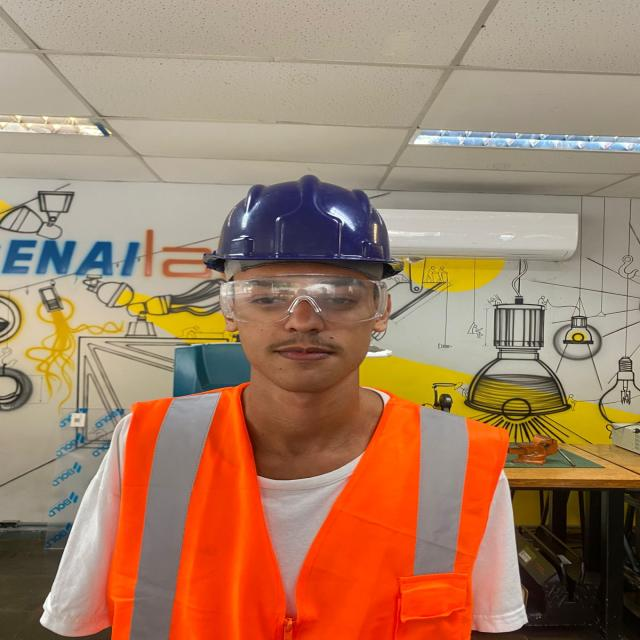CAPACETE: (198, 173, 409, 280)
COLETE: (109, 375, 514, 640)
OCULOS: (218, 272, 391, 328)
